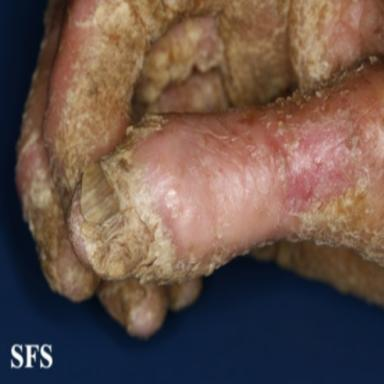Darier_s-Disease: (14, 0, 384, 334)
